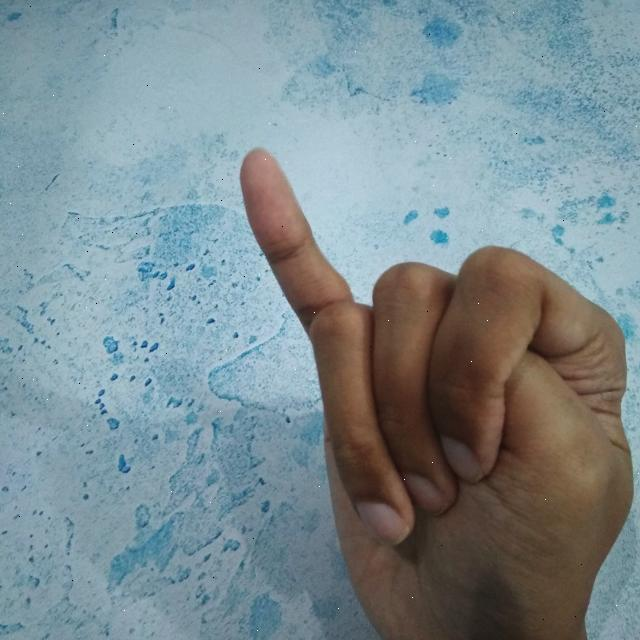I: (234, 144, 640, 640)
